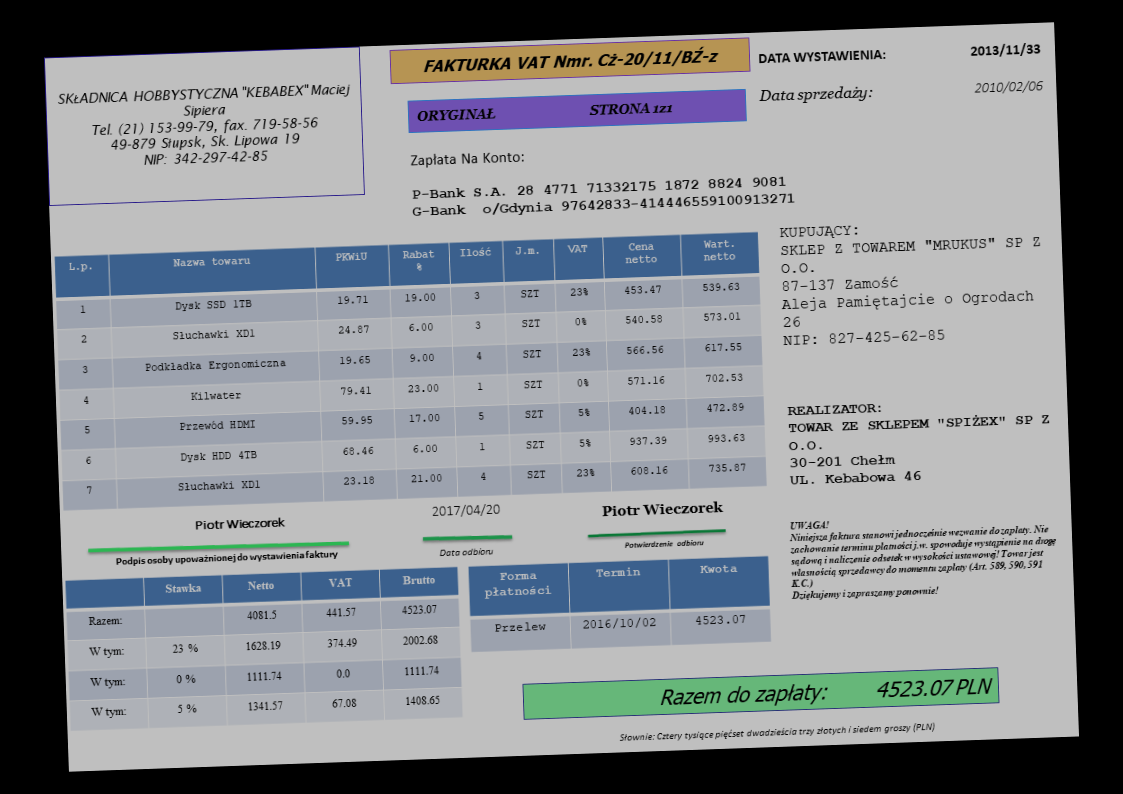Table: (52, 229, 769, 513), (63, 564, 464, 733), (466, 553, 773, 653)
TextBox: (776, 214, 1049, 352), (54, 78, 357, 173), (785, 507, 1063, 605), (785, 393, 1056, 490), (409, 172, 799, 222), (656, 673, 996, 709), (420, 43, 724, 79), (615, 719, 938, 745), (414, 96, 675, 125), (113, 546, 340, 570), (756, 80, 878, 107), (756, 45, 888, 67), (407, 147, 529, 170), (599, 498, 725, 519), (190, 514, 290, 533), (429, 500, 501, 521), (967, 41, 1045, 60), (970, 77, 1047, 96), (622, 536, 705, 552), (436, 543, 495, 560)
